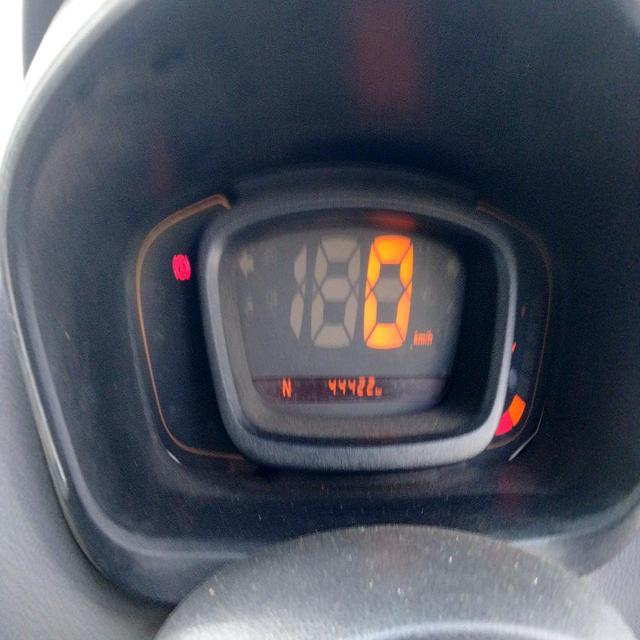odometer: (324, 375, 378, 402)
